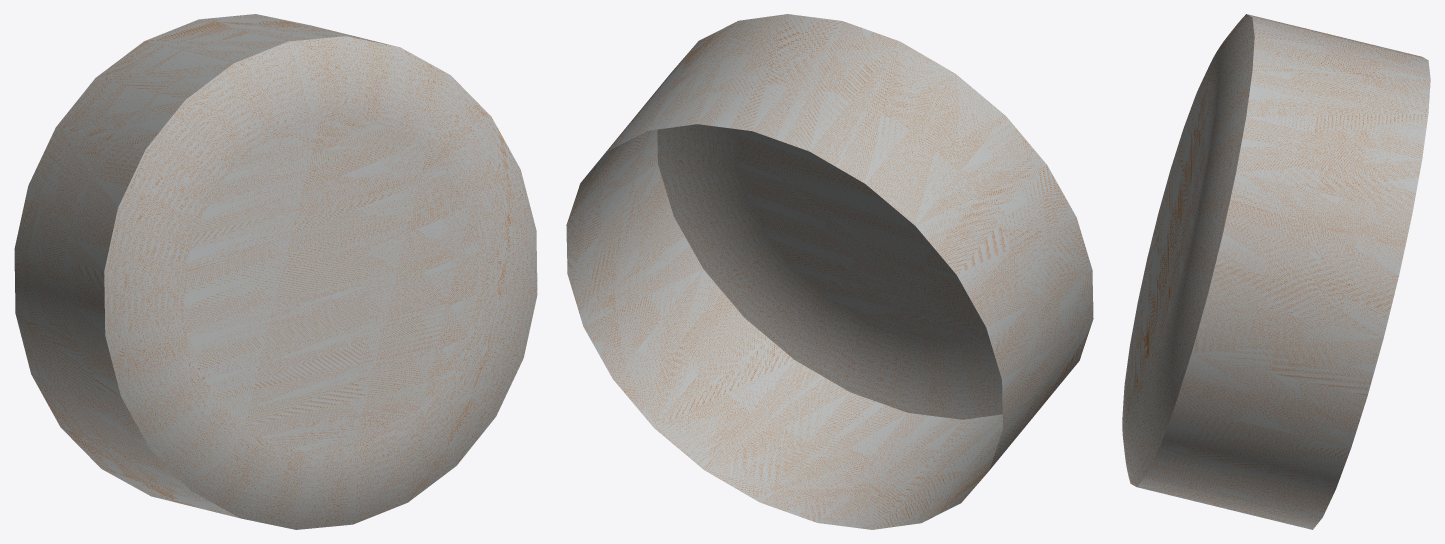
File: original-141.obj
3 renders of one model, left to right at view 1: azimuth 30°, elevation 25°; view 2: azimuth 150°, elevation 25°; view 3: azimuth 270°, elevation 25°, orthographic. The views are drawn at different scales.
Parts seen in each view (by area): view 1: Group27/mesh98/mesh98-geometry/material_0#mesh98-geometry; view 2: Group27/mesh98/mesh98-geometry/material_0#mesh98-geometry; view 3: Group27/mesh98/mesh98-geometry/material_0#mesh98-geometry.
Boxes of the visible parts, x1,y1,x2,y2 form: Group27/mesh98/mesh98-geometry/material_0#mesh98-geometry: [14, 14, 537, 529]; Group27/mesh98/mesh98-geometry/material_0#mesh98-geometry: [566, 14, 1093, 529]; Group27/mesh98/mesh98-geometry/material_0#mesh98-geometry: [1122, 14, 1430, 529].
Bounding box in the file's own units: 0.0401 × 0.0426 × 0.0253.
